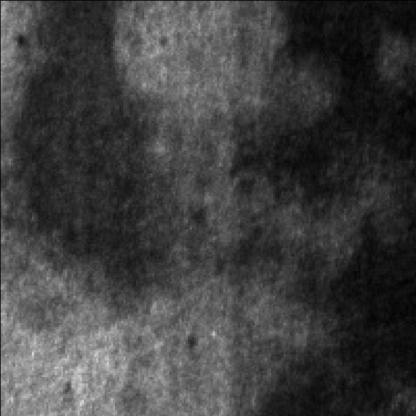patches: (12, 2, 194, 298), (264, 218, 416, 416), (272, 2, 416, 204)
